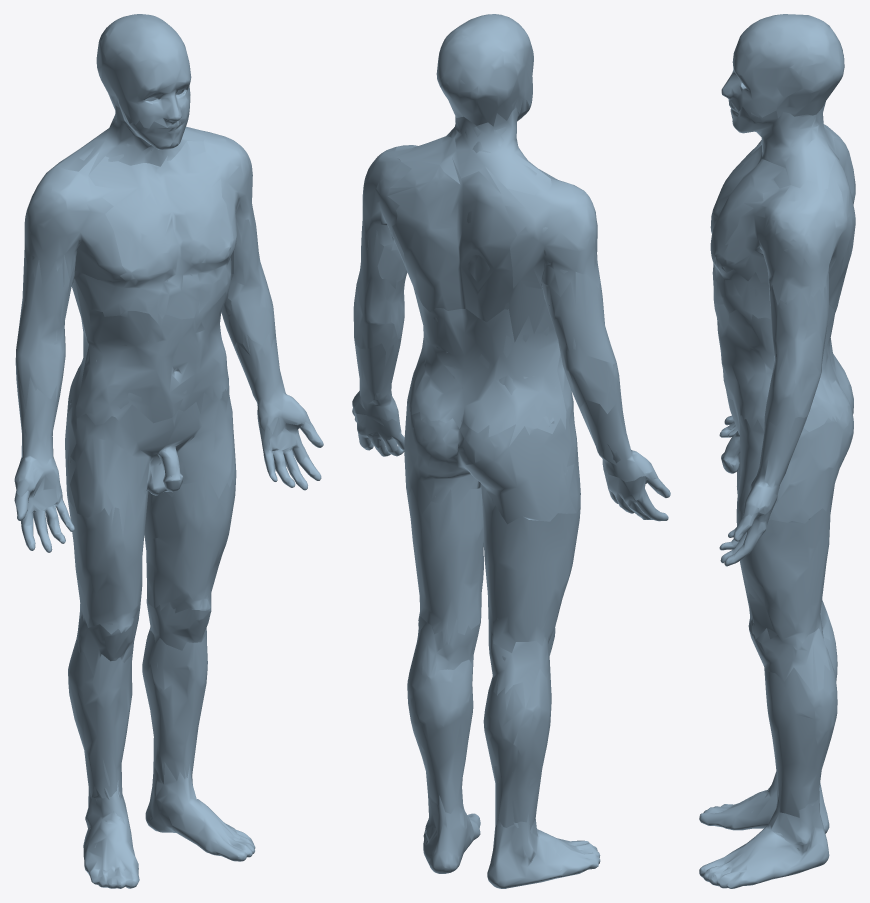
File: body.glb
3 views of the same model, side by side, from view 1: azimuth 30°, elevation 25°; view 2: azimuth 150°, elevation 25°; view 3: azimuth 270°, elevation 25° (orthographic). The views are drawn at different scales.
Parts seen in each view (by area): view 1: chest, thigh, core_abdomen, groin, lower_leg, shoulder, elbow, ankle_foot, head-context, forearm, wrist_hand, cervical_neck (+3 smaller); view 2: thigh, upper_back_scapula, lower_back_spine, lower_leg, hip_glute, shoulder, elbow, head-context, ankle_foot, cervical_neck, forearm, knee (+2 smaller); view 3: shoulder, head-context, thigh, ankle_foot, lower_leg, elbow, chest, hip_glute, cervical_neck, core_abdomen, knee, forearm (+4 smaller).
Boxes of the visible parts, x1,y1,x2,y2 form: chest: (67, 141, 233, 325); thigh: (67, 476, 236, 634); core_abdomen: (75, 282, 249, 425); groin: (70, 388, 236, 536); lower_leg: (68, 629, 207, 800); shoulder: (24, 128, 255, 287); elbow: (15, 219, 275, 408); ankle_foot: (83, 762, 255, 888); head-context: (96, 14, 191, 128); forearm: (14, 333, 310, 496); wrist_hand: (14, 417, 323, 552); cervical_neck: (57, 97, 205, 174); thigh: (406, 487, 580, 652); upper_back_scapula: (377, 158, 554, 342); lower_back_spine: (382, 277, 566, 446); lower_leg: (407, 656, 551, 830); hip_glute: (404, 401, 576, 524); shoulder: (361, 145, 600, 310); elbow: (353, 230, 622, 413); head-context: (436, 14, 533, 126); ankle_foot: (423, 795, 600, 888); cervical_neck: (395, 99, 551, 195); forearm: (352, 339, 658, 482); knee: (409, 616, 555, 707); shoulder: (716, 130, 852, 306); head-context: (721, 14, 844, 118); thigh: (736, 453, 830, 643); ankle_foot: (699, 772, 829, 888); lower_leg: (764, 622, 837, 817); elbow: (765, 278, 828, 433); chest: (710, 144, 784, 321); hip_glute: (772, 384, 853, 523); cervical_neck: (728, 100, 840, 193); core_abdomen: (713, 294, 774, 430); knee: (749, 599, 833, 693); forearm: (742, 411, 807, 517).
Bounding box in the file's own units: 0.6673 × 1.72 × 0.2926.
